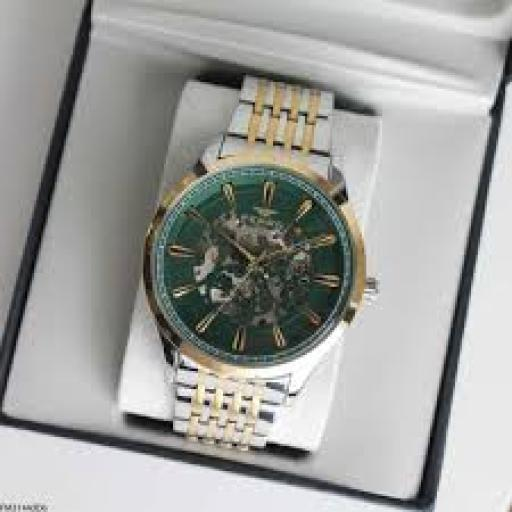KolSaati: (125, 54, 390, 491)
